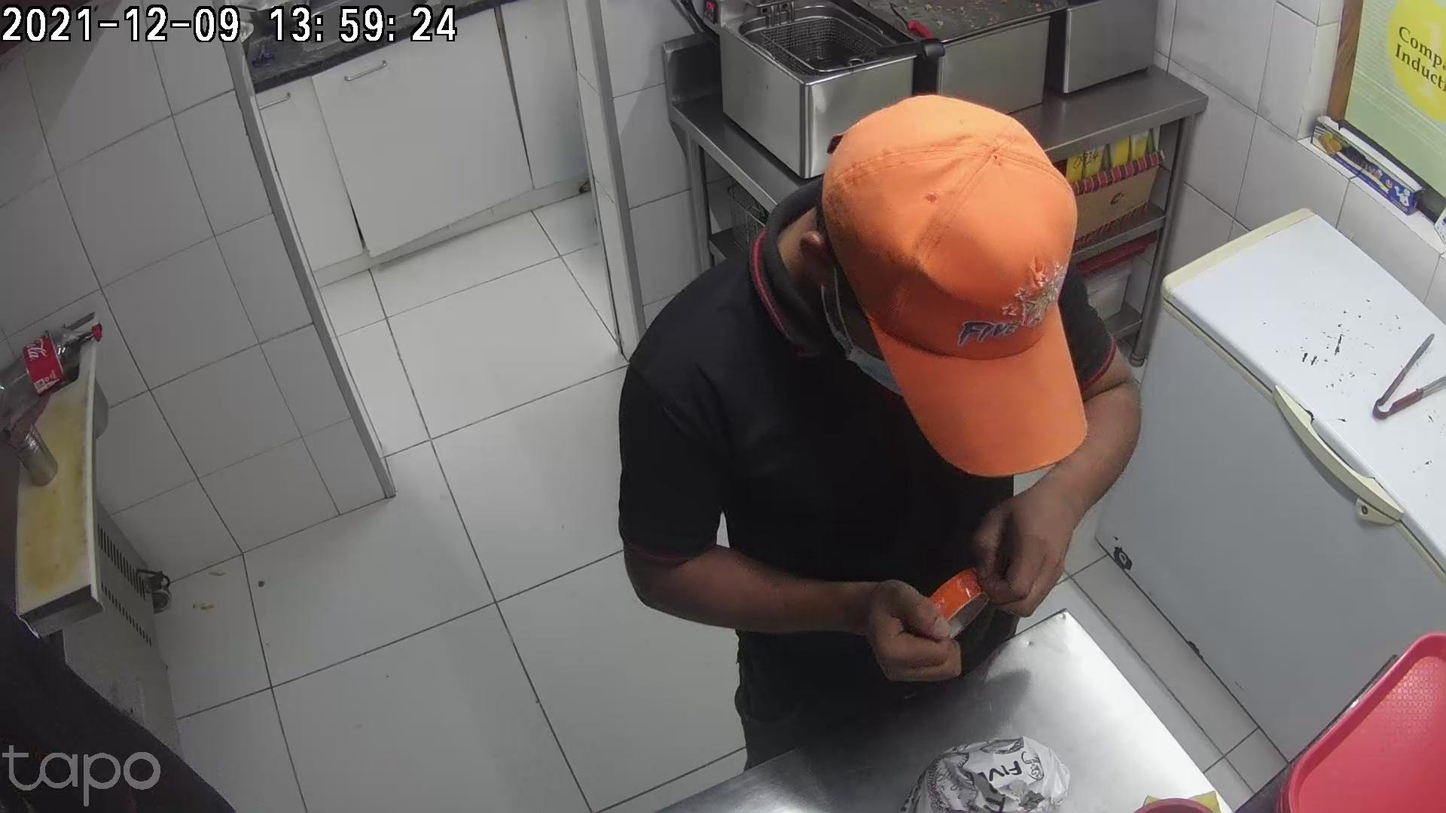no_gloves: (806, 581, 964, 681), (973, 474, 1084, 594)
